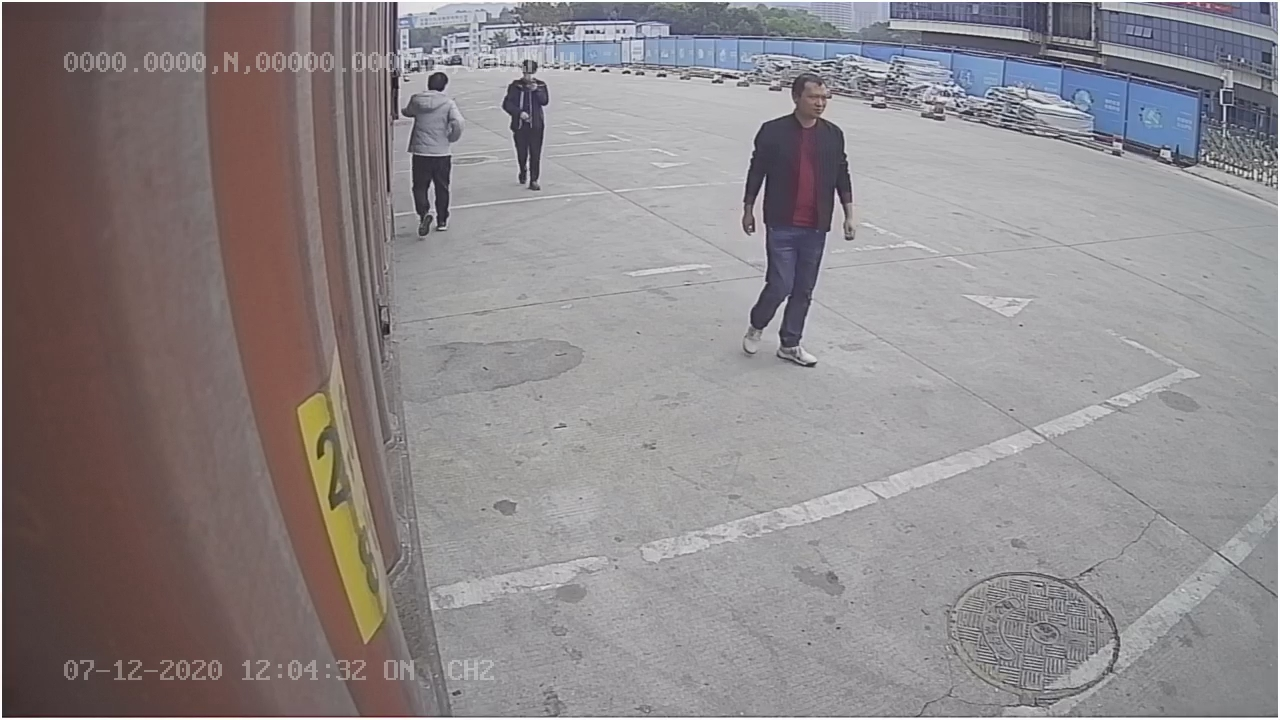person: (741, 71, 859, 375)
